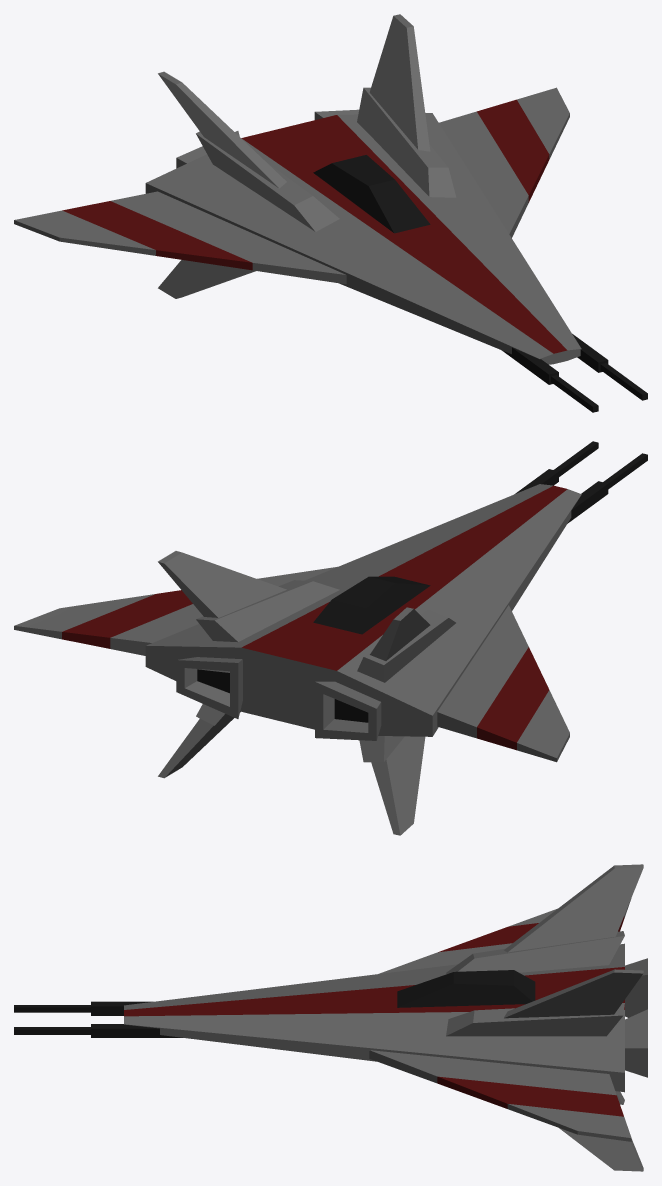
The model's file is spaceship_main.obj.
3 renders of one model, top to bottom at view 1: azimuth 30°, elevation 25°; view 2: azimuth 150°, elevation 25°; view 3: azimuth 270°, elevation 25°, orthographic. The views are drawn at different scales.
Parts seen in each view (by area): view 1: spaceship_main; view 2: spaceship_main; view 3: spaceship_main.
Boxes of the visible parts, x1,y1,x2,y2 form: spaceship_main: (14,14,647,412); spaceship_main: (14,441,647,835); spaceship_main: (14,864,647,1171).
Size of the model in its own units: 0.509 by 0.1924 by 0.5585.
